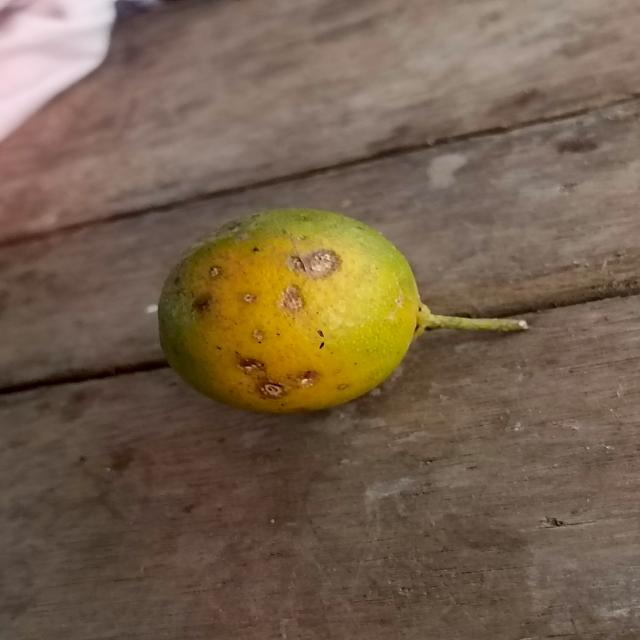black spot: (148, 206, 428, 421)
